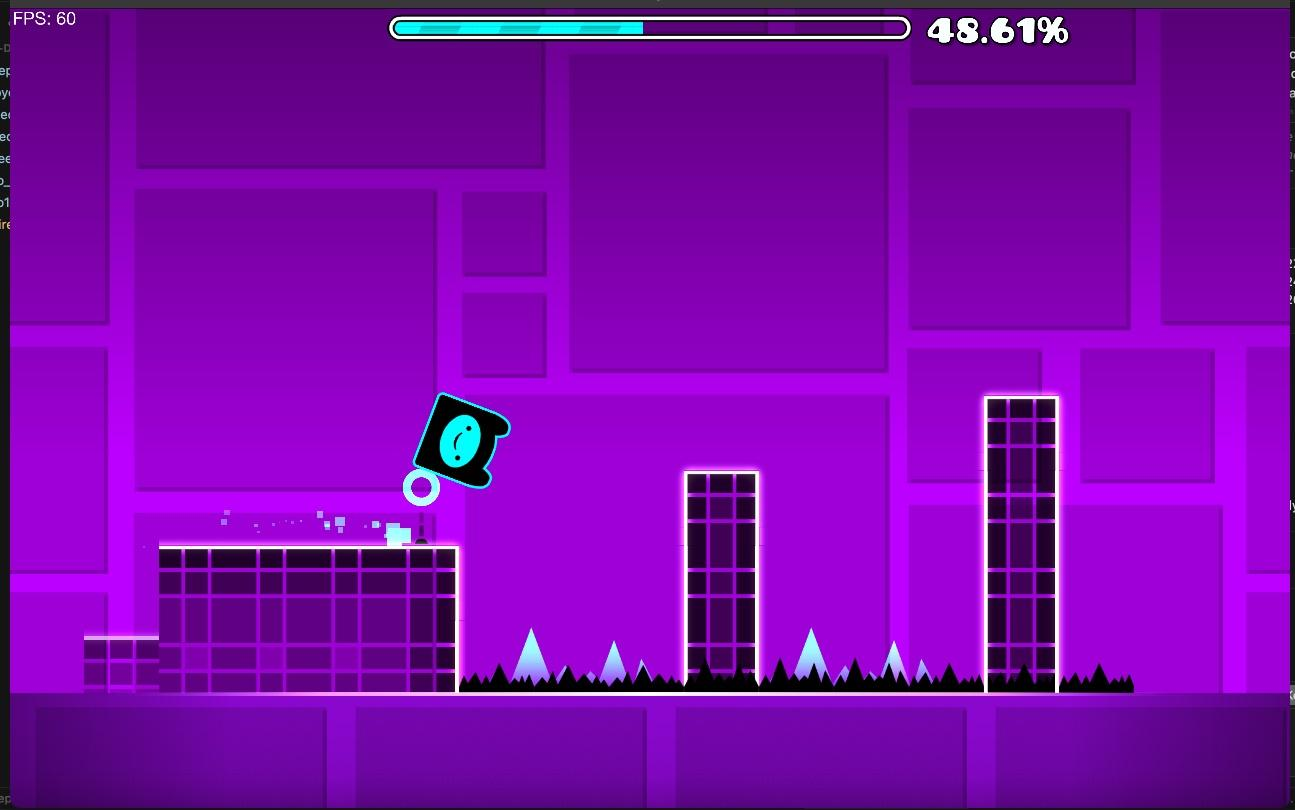block: (154, 546, 457, 693), (987, 400, 1061, 691), (686, 474, 755, 693)
player: (413, 393, 510, 487)
spike: (513, 629, 551, 682), (794, 628, 829, 676), (869, 649, 903, 677), (600, 642, 625, 680), (838, 660, 858, 679)
